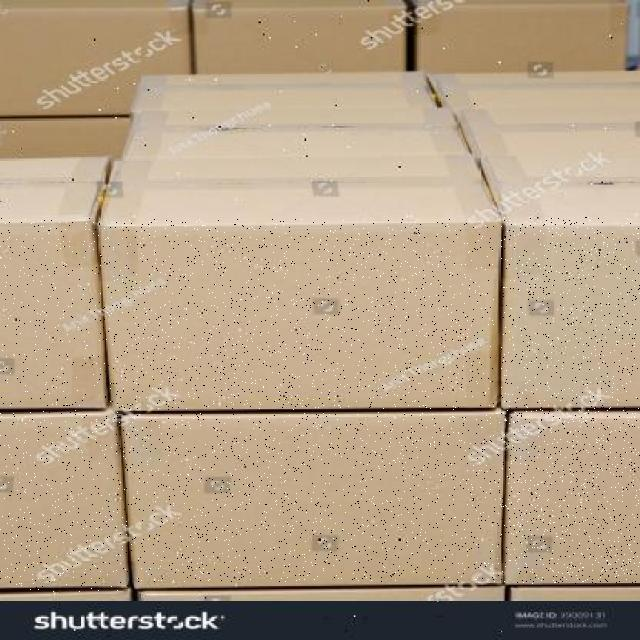BoxFace: (101, 219, 494, 410), (126, 412, 505, 582), (501, 217, 640, 411), (504, 410, 640, 584), (0, 410, 128, 592), (0, 217, 106, 406)
